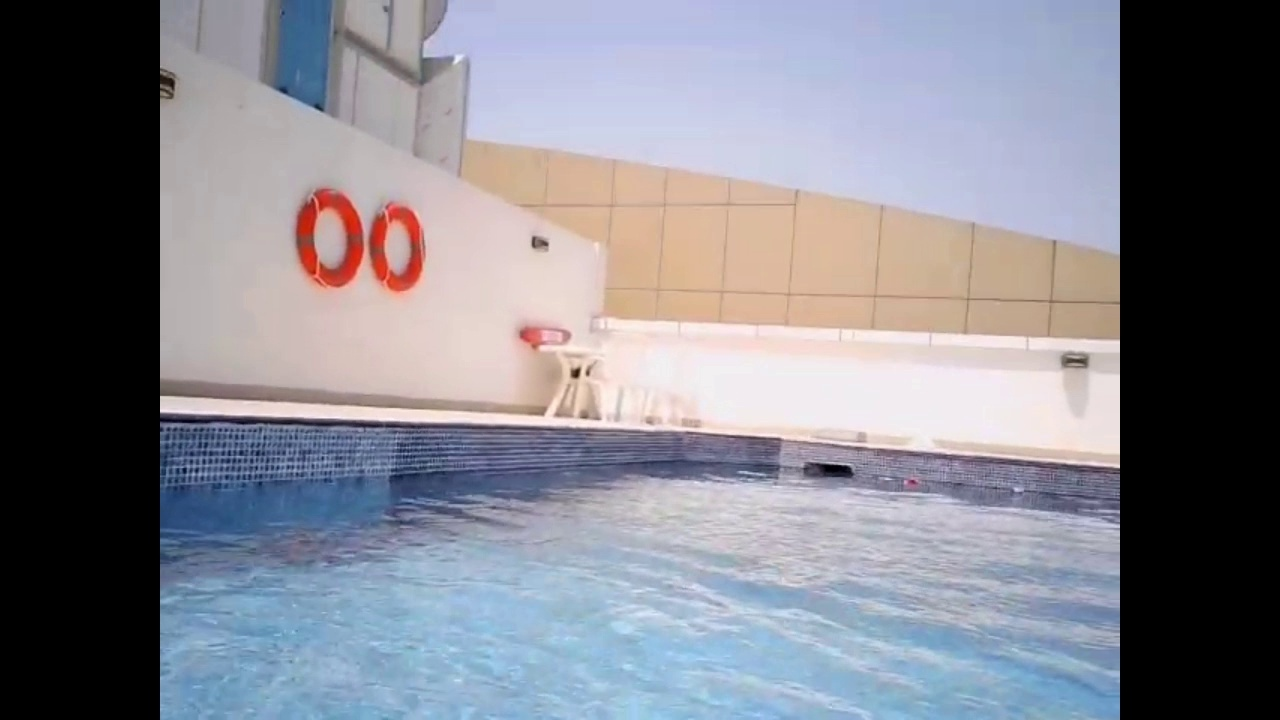debris: (899, 471, 925, 491), (1006, 480, 1030, 500)
